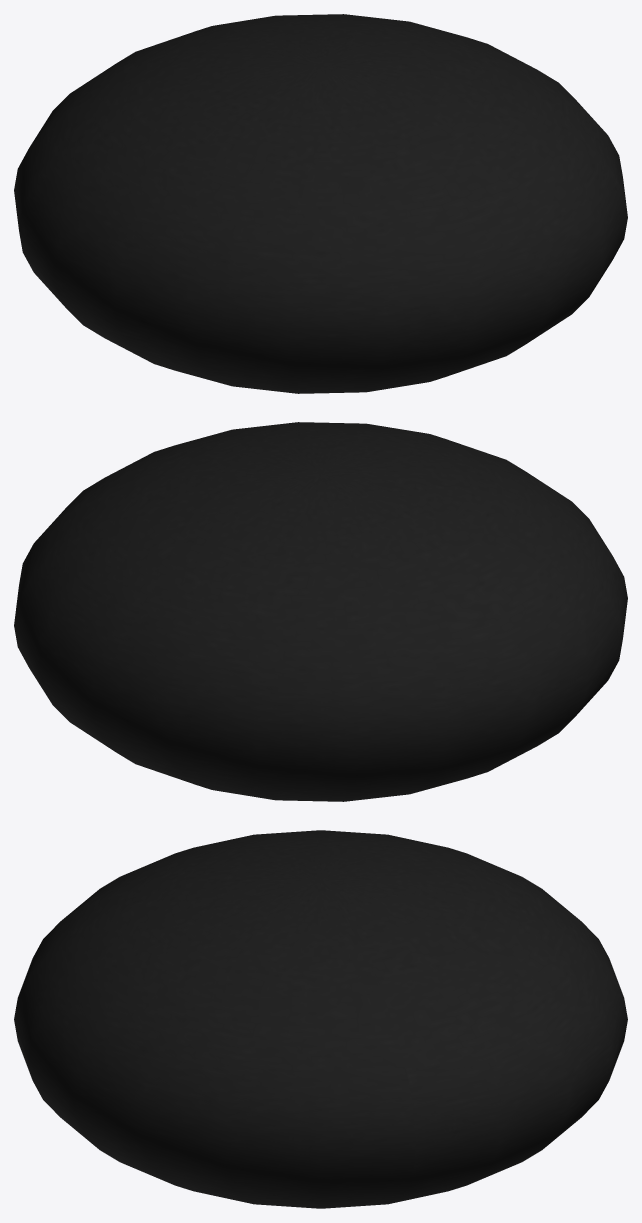
The model's file is Food.fbx.
3 renders of one model, top to bottom at view 1: azimuth 30°, elevation 25°; view 2: azimuth 150°, elevation 25°; view 3: azimuth 270°, elevation 25°, orthographic.
Parts seen in each view (by area): view 1: Food; view 2: Food; view 3: Food.
Boxes of the visible parts, x1=… form: Food: x1=14, y1=14, x2=627, y2=393; Food: x1=14, y1=422, x2=627, y2=801; Food: x1=14, y1=830, x2=627, y2=1208.
Size of the model in its own units: 55.43 by 27.49 by 55.43.
